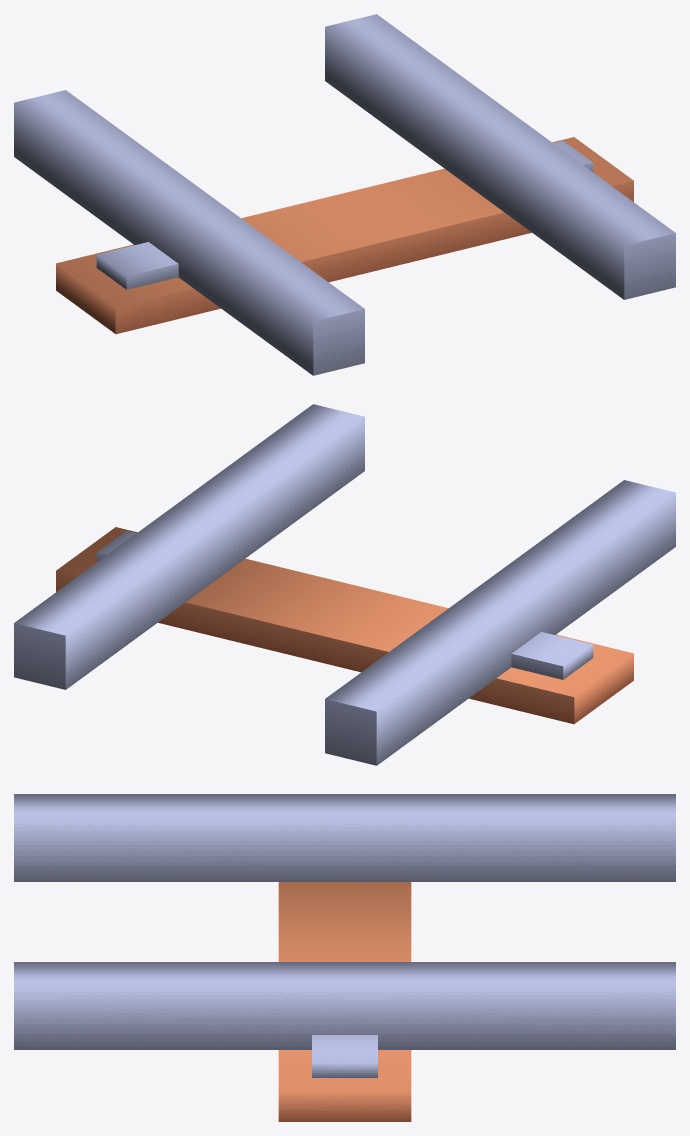
The model's file is track-single-detailed.glb.
3 renders of one model, top to bottom at view 1: azimuth 30°, elevation 25°; view 2: azimuth 150°, elevation 25°; view 3: azimuth 270°, elevation 25°, orthographic. The views are drawn at different scales.
Visible parts, largest first — view 1: track-single-detailed; view 2: track-single-detailed; view 3: track-single-detailed.
Part boxes in pixels (x1=…): track-single-detailed: x1=14, y1=14, x2=675, y2=375; track-single-detailed: x1=14, y1=404, x2=675, y2=765; track-single-detailed: x1=14, y1=794, x2=675, y2=1121.
Bounding box in the file's own units: 1 × 0.15 × 1.
1 material, 1 textured.
